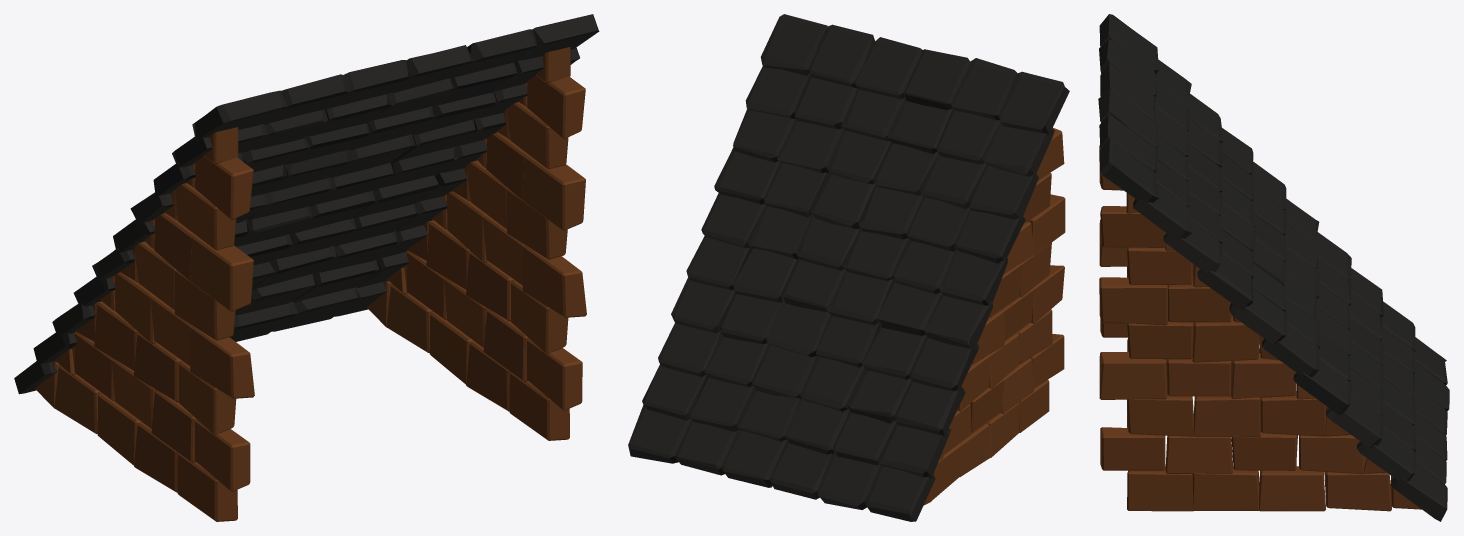
File: BrickWall-RedBrick-Roof-Both.fbx
3 views of the same model, side by side, from view 1: azimuth 30°, elevation 25°; view 2: azimuth 150°, elevation 25°; view 3: azimuth 270°, elevation 25° (orthographic). The views are drawn at different scales.
Parts seen in each view (by area): view 1: Cube.006, Stone Base wall.008, Stone Base wall.009; view 2: Cube.006, Stone Base wall.008; view 3: Cube.006, Stone Base wall.009, Stone Base wall.008.
Part boxes in pixels (x1,y1,x2,y2): Cube.006: (14,14,599,394); Stone Base wall.008: (34,127,254,521); Stone Base wall.009: (366,47,586,440); Cube.006: (628,14,1069,521); Stone Base wall.008: (923,128,1065,505); Cube.006: (1098,14,1449,521); Stone Base wall.009: (1099,193,1421,511); Stone Base wall.008: (1099,145,1260,353).
Size of the model in its own units: 883 by 973 by 857.
